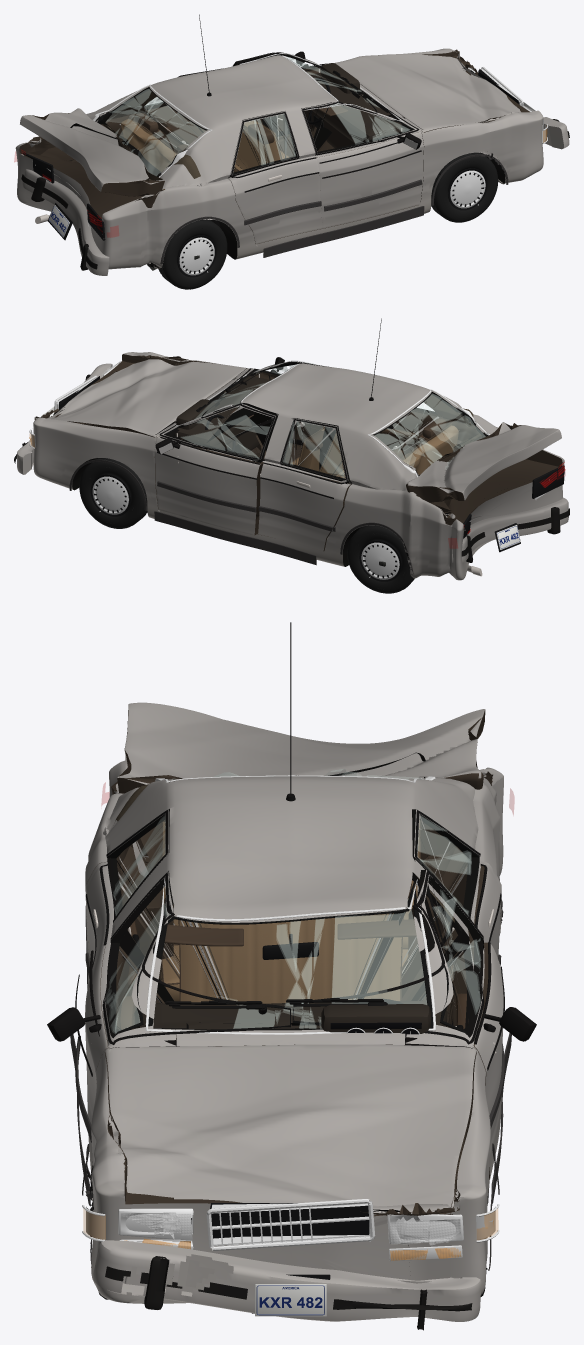
File: sedan87_rear_d1.glb
3 renders of one model, top to bottom at view 1: azimuth 30°, elevation 25°; view 2: azimuth 150°, elevation 25°; view 3: azimuth 270°, elevation 25°, orthographic. The views are drawn at different scales.
Visible parts, largest first — view 1: Body, Hood, Door_FR, Interior, Trunk, Door_RR, Glass, Wheel_RR_mesh, Wheel_FR_mesh, Bumper_R, Trim, Ends (+6 smaller); view 2: Body, Door_FL, Hood, Interior, Door_RL, Trunk, Glass, Wheel_FL_mesh, Wheel_RL_mesh, Trim, Bumper_R, Ends (+8 smaller); view 3: Body, Hood, Interior, Trunk, Ends, Bumper_F, Glass, Door_FL, Door_FR, Trim_FR, Door_RL, Trim_FL (+10 smaller).
Part boxes in pixels (<box>): Body: <box>15,48,543,269</box>; Hood: <box>334,54,520,132</box>; Door_FR: <box>301,102,423,228</box>; Interior: <box>121,63,404,190</box>; Trunk: <box>20,108,164,196</box>; Door_RR: <box>228,111,322,244</box>; Glass: <box>93,53,403,177</box>; Wheel_RR_mesh: <box>158,219,227,289</box>; Wheel_FR_mesh: <box>431,152,498,222</box>; Bumper_R: <box>21,169,109,275</box>; Trim: <box>160,14,508,264</box>; Ends: <box>23,67,548,240</box>; Body: <box>33,352,564,580</box>; Door_FL: <box>154,404,277,535</box>; Hood: <box>47,359,248,437</box>; Interior: <box>174,376,458,478</box>; Door_RL: <box>258,418,351,551</box>; Trunk: <box>406,422,561,502</box>; Glass: <box>175,360,489,477</box>; Wheel_FL_mesh: <box>79,458,147,528</box>; Wheel_RL_mesh: <box>347,525,414,593</box>; Trim: <box>69,318,413,574</box>; Bumper_R: <box>452,497,569,562</box>; Ends: <box>29,361,564,552</box>; Body: <box>85,760,503,1303</box>; Hood: <box>105,1044,476,1216</box>; Interior: <box>134,820,447,1046</box>; Trunk: <box>117,702,485,793</box>; Ends: <box>82,1199,499,1316</box>; Bumper_F: <box>93,1240,481,1330</box>; Glass: <box>145,769,435,1034</box>; Door_FL: <box>405,869,503,1179</box>; Door_FR: <box>85,871,176,1169</box>; Trim_FR: <box>47,872,290,1142</box>; Door_RL: <box>412,809,501,1027</box>; Trim_FL: <box>292,871,536,1128</box>.
Bounding box in the file's own units: 4.69 × 2.16 × 2.09.
Materials: 33 (5 with a texture image).
